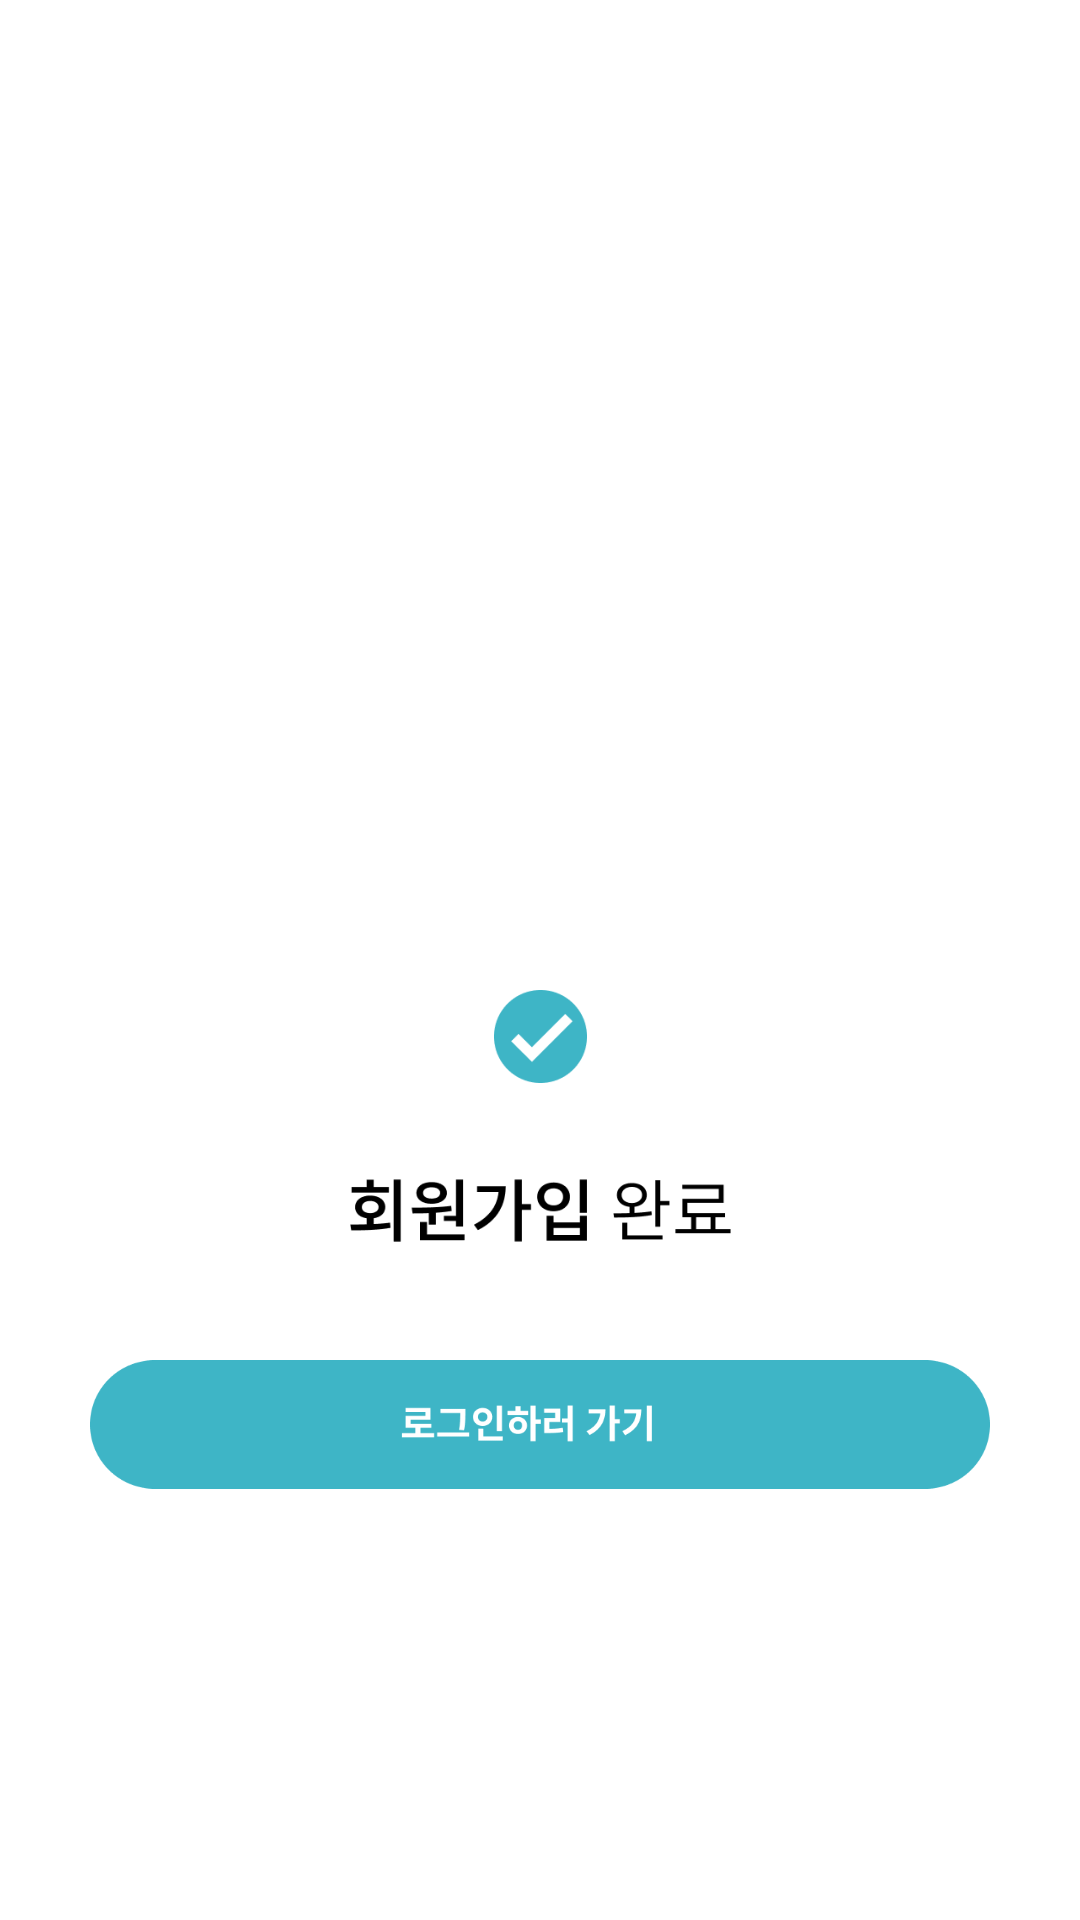

Icon click points for this 1080px x 1920px phone screenshot, format [x,y]:
register finish activity check: [540,1036]
